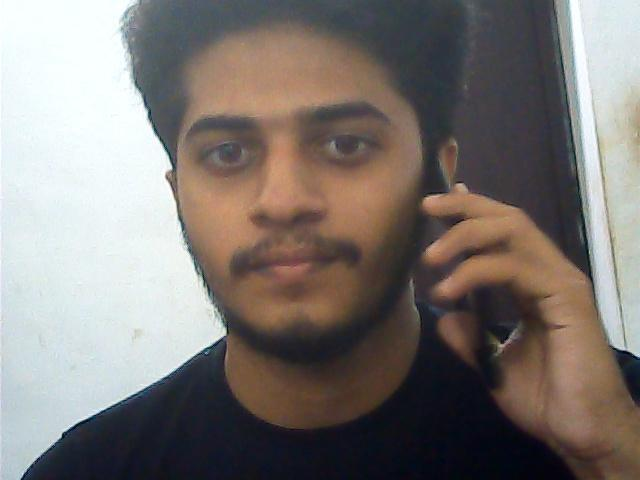PhoneUse: (415, 156, 527, 388)
SafeDriving: (186, 121, 272, 179), (301, 113, 388, 168)
